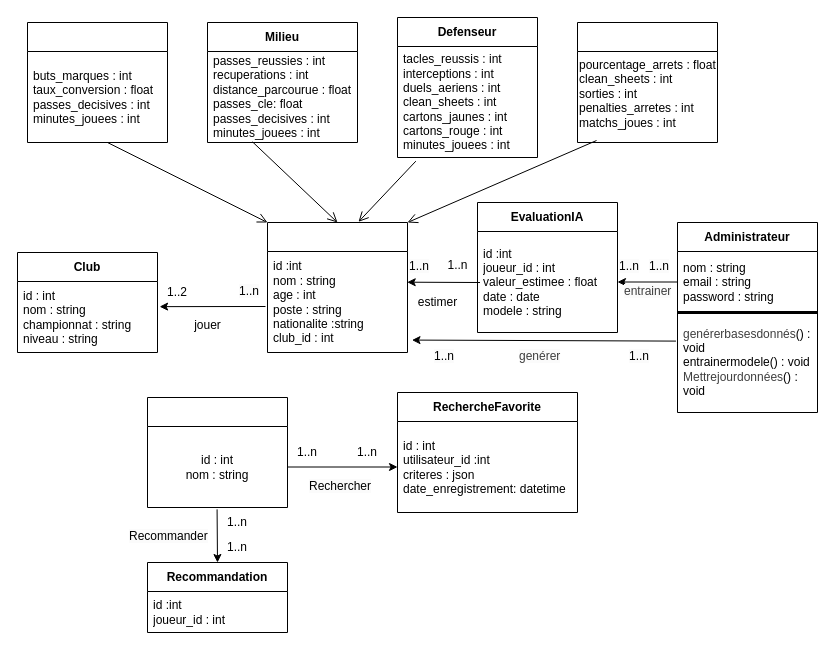
Some shapes in this 837 by 650 pixel diagram are drawn without their labels. Each missing label, with the box of its shape:
Attaquant: (26, 22, 168, 142)
Gardien: (576, 22, 718, 142)
Joueur: (266, 222, 408, 352)
Utilisateur: (146, 396, 288, 508)
